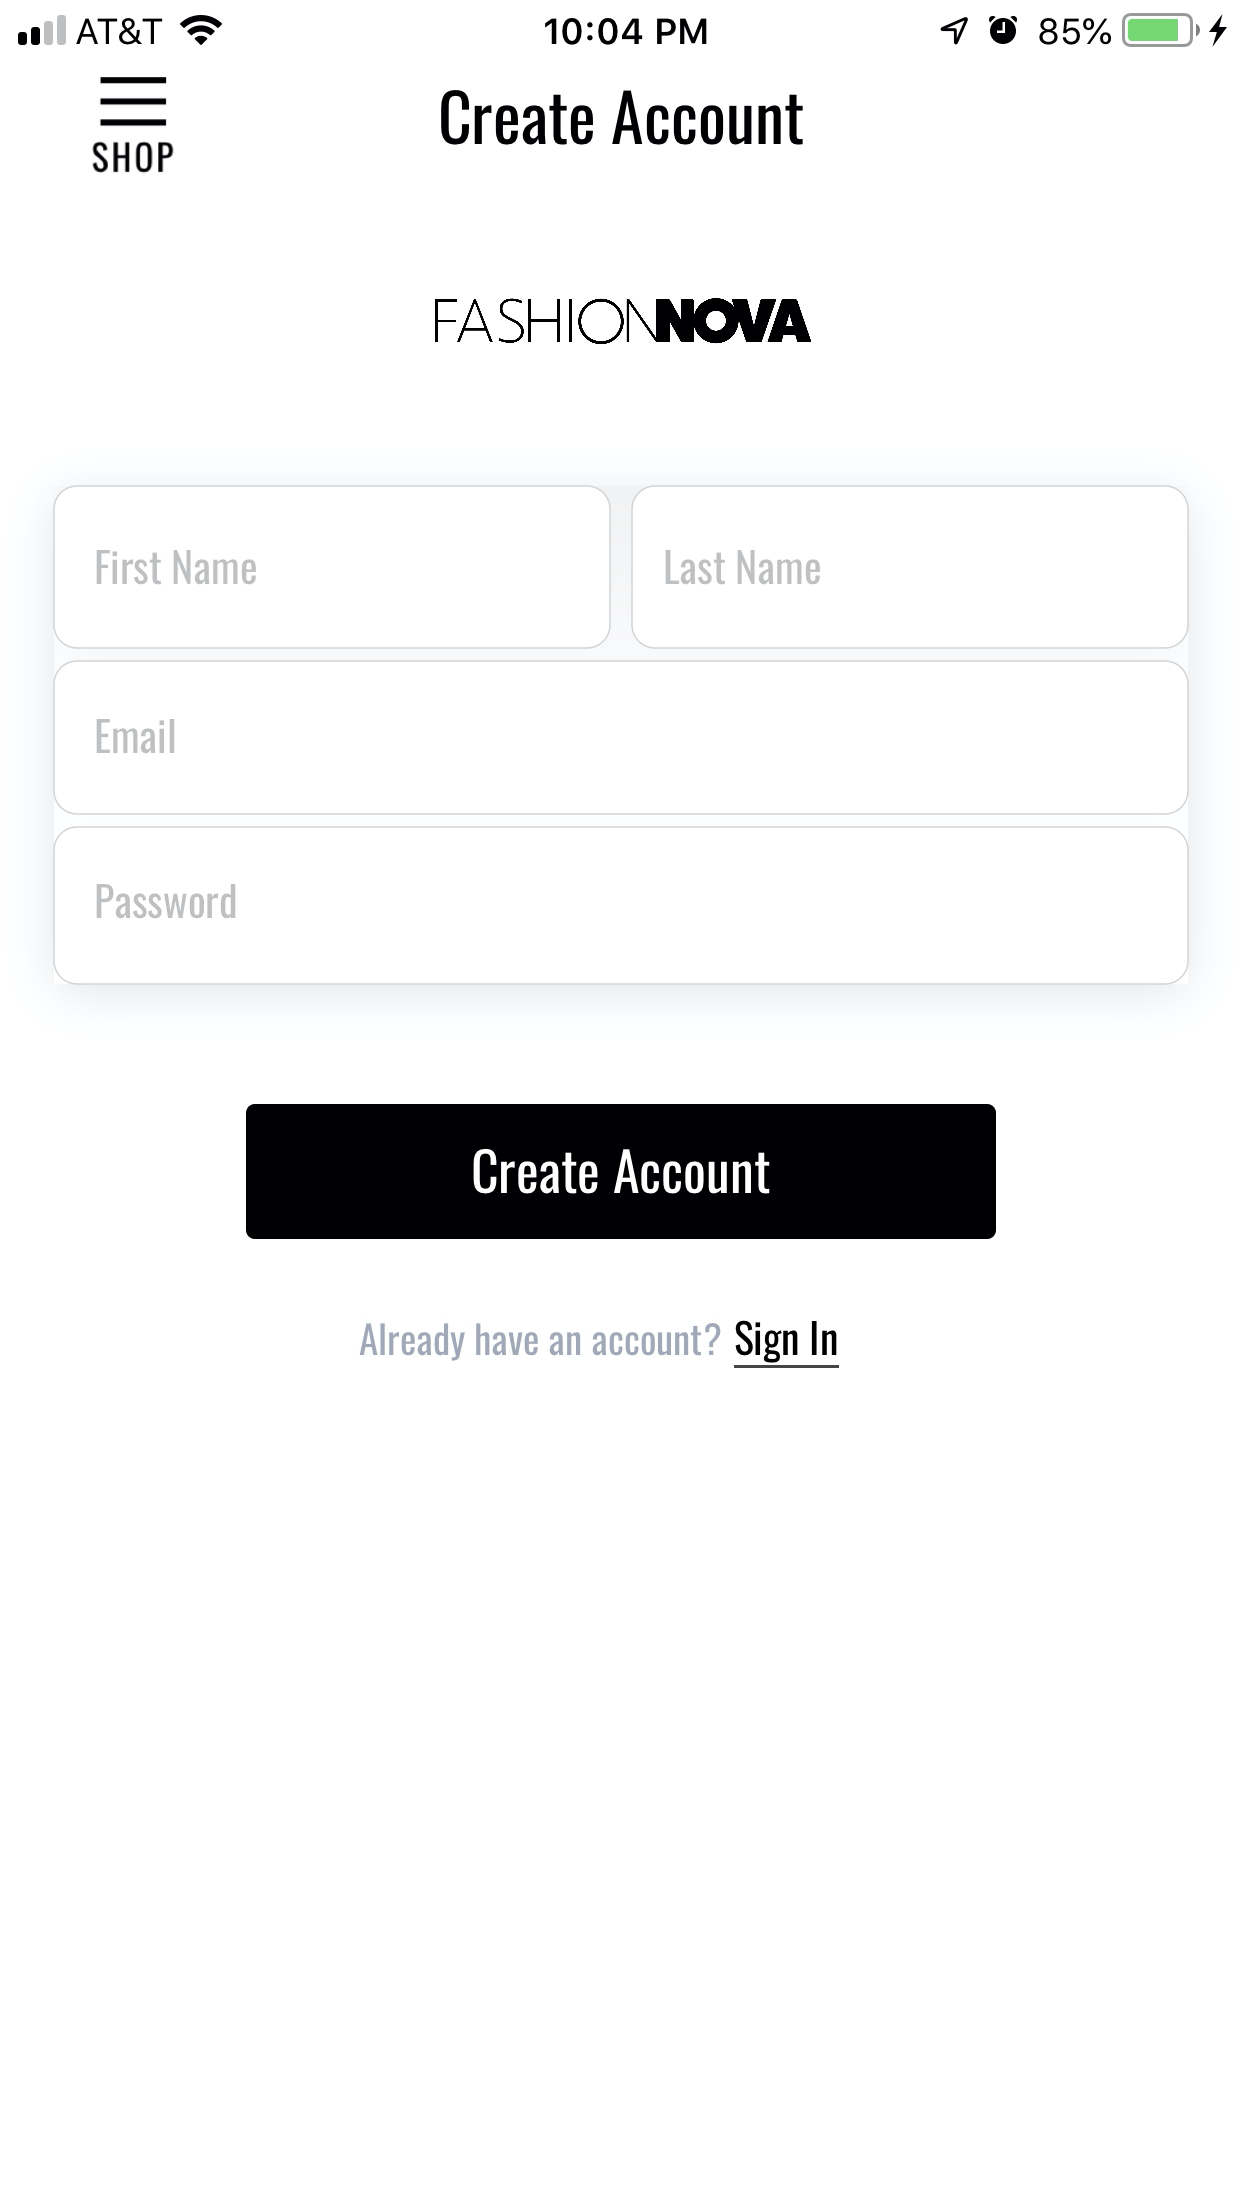EditText: (55, 826, 1190, 986), (53, 660, 1189, 816), (631, 485, 1189, 651), (55, 485, 613, 651)
Icon: (102, 77, 168, 127)
Image: (435, 299, 811, 346)
Text: (441, 89, 804, 146), (359, 1322, 722, 1362), (97, 550, 258, 585), (666, 550, 820, 585), (732, 1319, 840, 1369), (96, 884, 237, 921), (96, 719, 176, 755), (93, 143, 174, 174)
TextButton: (246, 1104, 996, 1240)
UpperTaskBar: (2, 2, 1242, 49)
